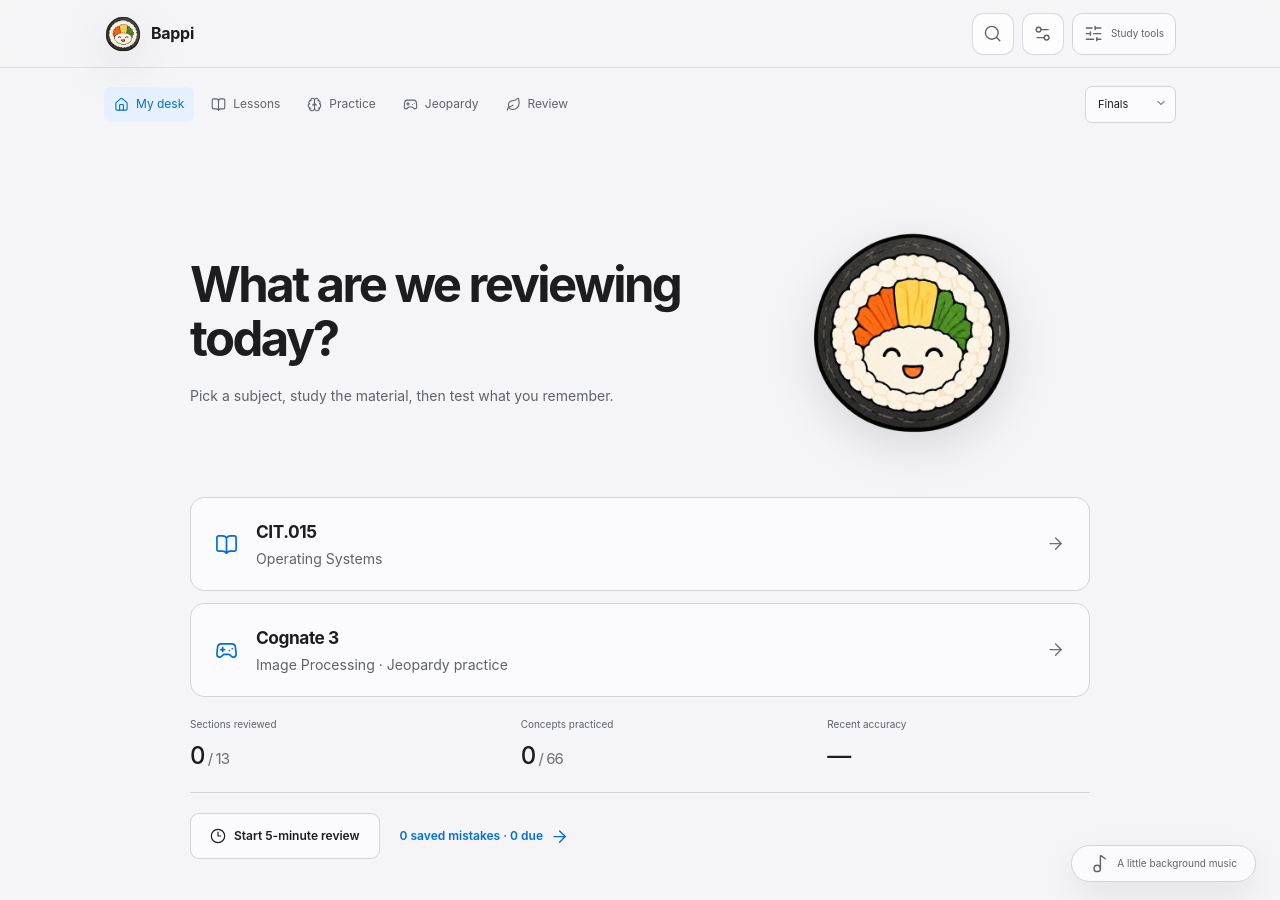
Test case: Bappi Jeopardy › is reachable from the Bappi desk and remains inside its shell
Click the link "Cognate 3 Image Processing · Jeopardy practice".
click(297, 637)  # box [190, 603, 1090, 697]
(page scrolled)
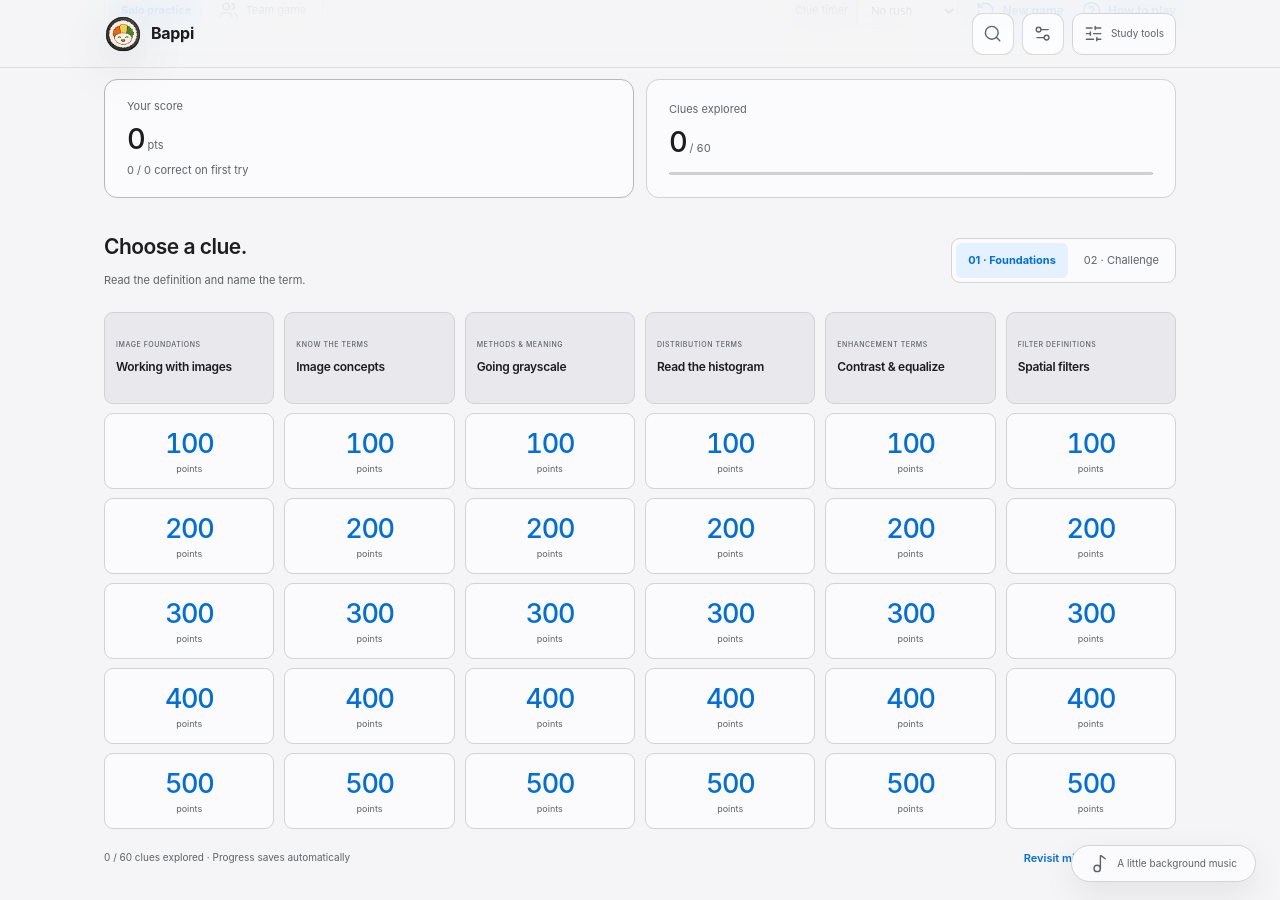
Expected: the link with aria-label "Bappi home" is shown, [104, 14, 194, 52]
Expected: the button with aria-label "Working with images, 100 points" is shown, [104, 412, 274, 488]
